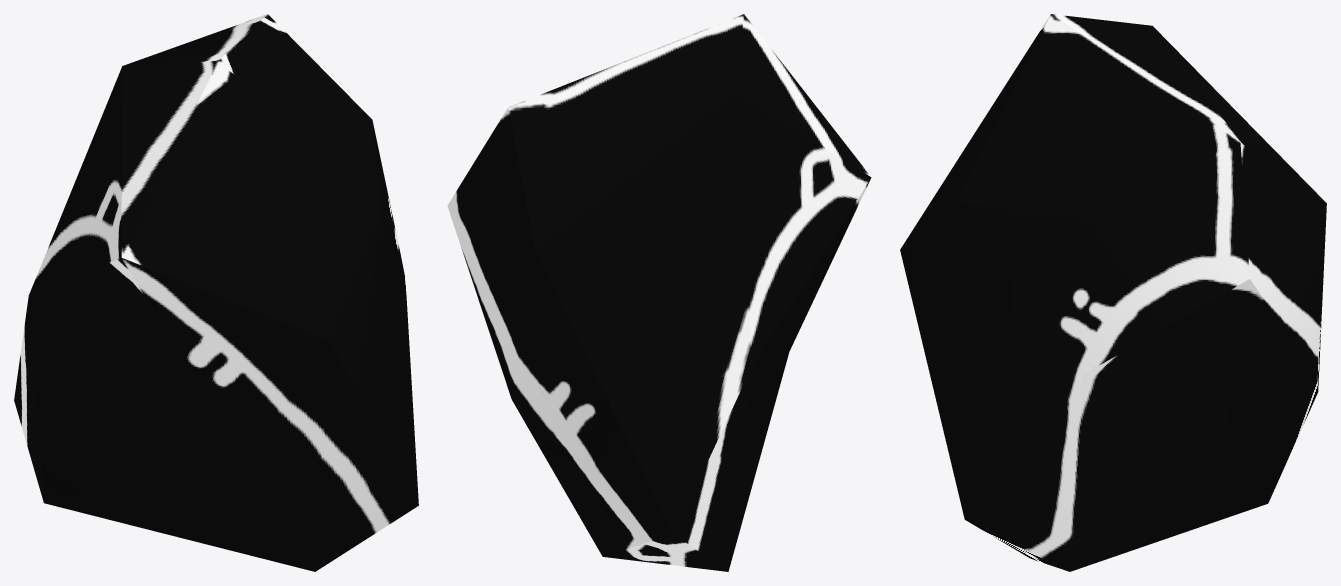
Rendered from asteroid3.glb.
The picture shows the model from 3 angles, left to right: view 1: azimuth 30°, elevation 25°; view 2: azimuth 150°, elevation 25°; view 3: azimuth 270°, elevation 25°; orthographic projection. The views are drawn at different scales.
Parts seen in each view (by area): view 1: rock.003; view 2: rock.003; view 3: rock.003.
Part boxes in pixels (x1,y1,x2,y2): rock.003: (14,14,418,571); rock.003: (447,14,871,571); rock.003: (900,14,1326,571).
Size of the model in its own units: 0.6847 by 1.07 by 0.8192.
Materials: 1 (1 with a texture image).
